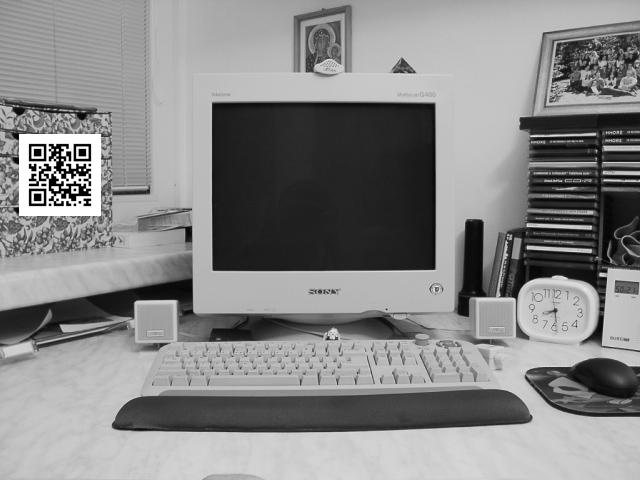qr_code: (20, 136, 99, 214)
